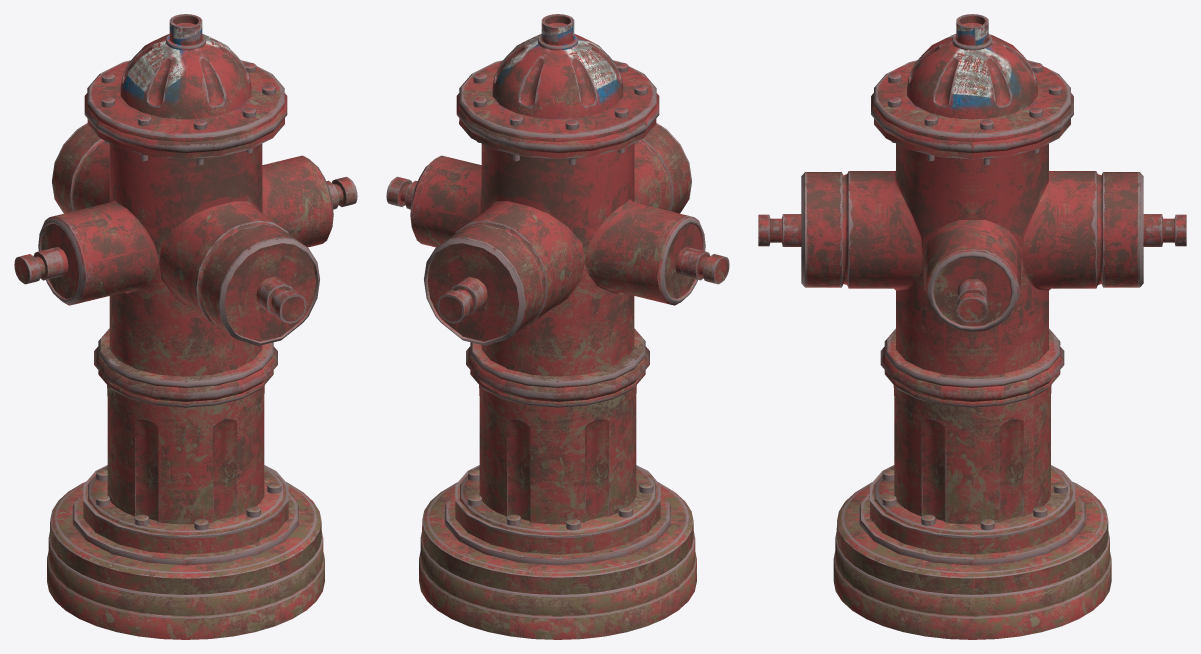
File: hydrant.obj
3 views of the same model, side by side, from view 1: azimuth 30°, elevation 25°; view 2: azimuth 150°, elevation 25°; view 3: azimuth 270°, elevation 25° (orthographic).
Parts seen in each view (by area): view 1: dd; view 2: dd; view 3: dd.
Boxes of the visible parts, left/top/right/bottom form: dd: left=14, top=14, right=357, bottom=639; dd: left=386, top=14, right=729, bottom=639; dd: left=758, top=14, right=1186, bottom=639.
Bounding box in the file's own units: 69.6 × 114 × 78.82.
Materials: 1 (1 with a texture image).
